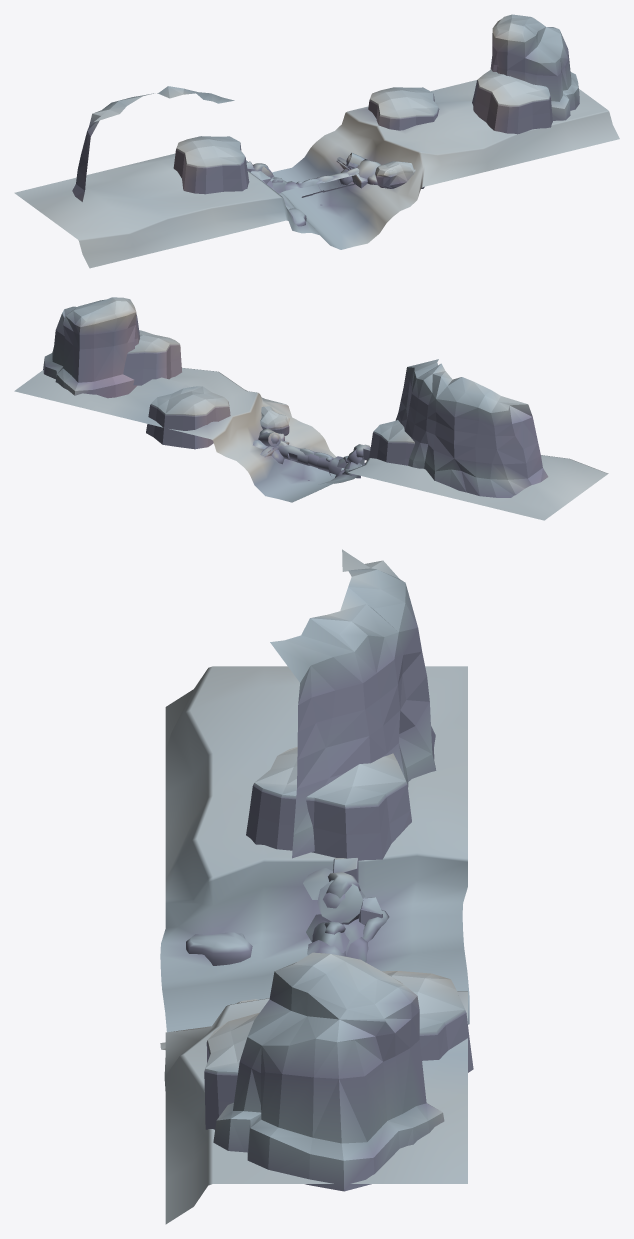
The model's file is Arctic_Luge_Straight_UnderObstacle_A.glb.
3 views of the same model, one above another, from view 1: azimuth 30°, elevation 25°; view 2: azimuth 150°, elevation 25°; view 3: azimuth 270°, elevation 25° (orthographic). The views are drawn at different scales.
Visible parts, largest first — view 1: Arctic_Luge_Straight_UnderObstacle_A, Arctic_Luge_TallIceRock_prop, Arctic_Luge_SmallIceRock_prop (1), Arctic_Luge_SmallIceRock_prop (2), Arctic_Luge_SmallIceRock_prop, Arctic_Luge_IceWall_prop, Arctic_Luge_SmalRock_prop, Arctic_Luge_Straight_Obstacle; view 2: Arctic_Luge_Straight_UnderObstacle_A, Arctic_Luge_IceWall_prop, Arctic_Luge_TallIceRock_prop, Arctic_Luge_SmallIceRock_prop, Arctic_Luge_SmallIceRock_prop (1), Arctic_Luge_SmallIceRock_prop (2), Arctic_Luge_Straight_Obstacle, Arctic_Luge_SmalRock_prop; view 3: Arctic_Luge_Straight_UnderObstacle_A, Arctic_Luge_TallIceRock_prop, Arctic_Luge_IceWall_prop, Arctic_Luge_SmallIceRock_prop (2), Arctic_Luge_SmallIceRock_prop, Arctic_Luge_SmallIceRock_prop (1).
Boxes of the visible parts, x1,y1,x2,y2 form: Arctic_Luge_Straight_UnderObstacle_A: (14, 80, 619, 268); Arctic_Luge_TallIceRock_prop: (490, 14, 579, 120); Arctic_Luge_SmallIceRock_prop (1): (472, 69, 552, 134); Arctic_Luge_SmallIceRock_prop (2): (173, 136, 249, 194); Arctic_Luge_SmallIceRock_prop: (368, 87, 439, 130); Arctic_Luge_IceWall_prop: (72, 86, 234, 201); Arctic_Luge_SmalRock_prop: (375, 161, 424, 188); Arctic_Luge_Straight_Obstacle: (284, 167, 359, 197); Arctic_Luge_Straight_UnderObstacle_A: (14, 368, 608, 520); Arctic_Luge_IceWall_prop: (395, 359, 548, 497); Arctic_Luge_TallIceRock_prop: (43, 297, 139, 398); Arctic_Luge_SmallIceRock_prop: (146, 386, 230, 449); Arctic_Luge_SmallIceRock_prop (1): (123, 330, 181, 385); Arctic_Luge_SmallIceRock_prop (2): (369, 420, 414, 465); Arctic_Luge_Straight_Obstacle: (277, 441, 343, 476); Arctic_Luge_SmalRock_prop: (260, 406, 290, 435); Arctic_Luge_Straight_UnderObstacle_A: (160, 666, 469, 1224); Arctic_Luge_TallIceRock_prop: (213, 952, 444, 1191); Arctic_Luge_IceWall_prop: (270, 549, 436, 858); Arctic_Luge_SmallIceRock_prop (2): (246, 746, 411, 860); Arctic_Luge_SmallIceRock_prop: (382, 971, 473, 1072); Arctic_Luge_SmallIceRock_prop (1): (204, 1012, 259, 1129).
Size of what is drawn, in the model's own units: 26.07 by 7.4 by 6.64.
